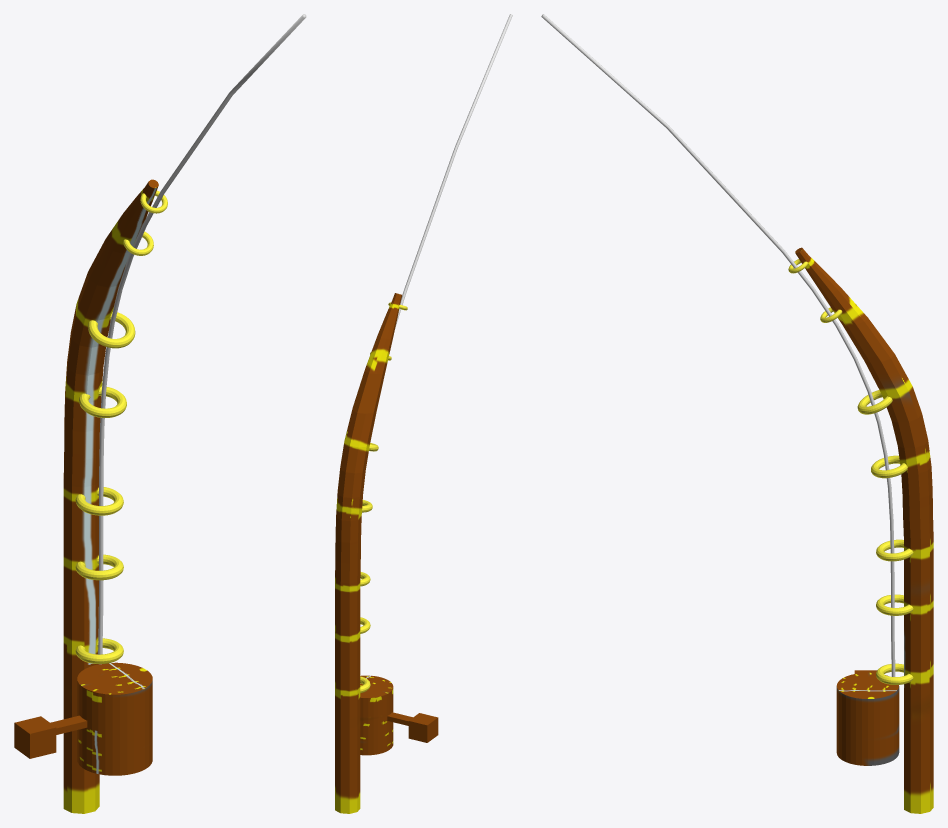
The model's file is rod 1.fbx.
The picture shows the model from 3 angles, left to right: view 1: azimuth 30°, elevation 25°; view 2: azimuth 150°, elevation 25°; view 3: azimuth 270°, elevation 25°; orthographic projection. The views are drawn at different scales.
Parts seen in each view (by area): view 1: mixamorig:Jacket_Geo.002; view 2: mixamorig:Jacket_Geo.002; view 3: mixamorig:Jacket_Geo.002.
Part boxes in pixels (x1=…): mixamorig:Jacket_Geo.002: x1=14, y1=14, x2=306, y2=813; mixamorig:Jacket_Geo.002: x1=335, y1=14, x2=512, y2=813; mixamorig:Jacket_Geo.002: x1=541, y1=14, x2=933, y2=813.
Size of the model in its own units: 22.74 by 165 by 74.33.
Materials: 3 (1 with a texture image).
